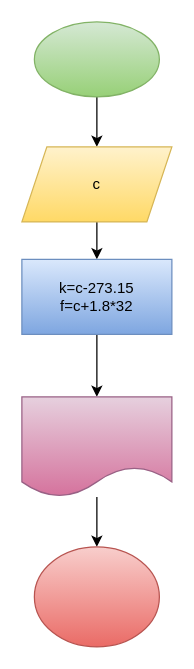
This 194x669 diagram has some shape labels left out. Here are the shapes that lost their labels. From the top down, the box of each, then its label:
(33, 21, 159, 97): INICIO
(21, 396, 172, 497): kf
